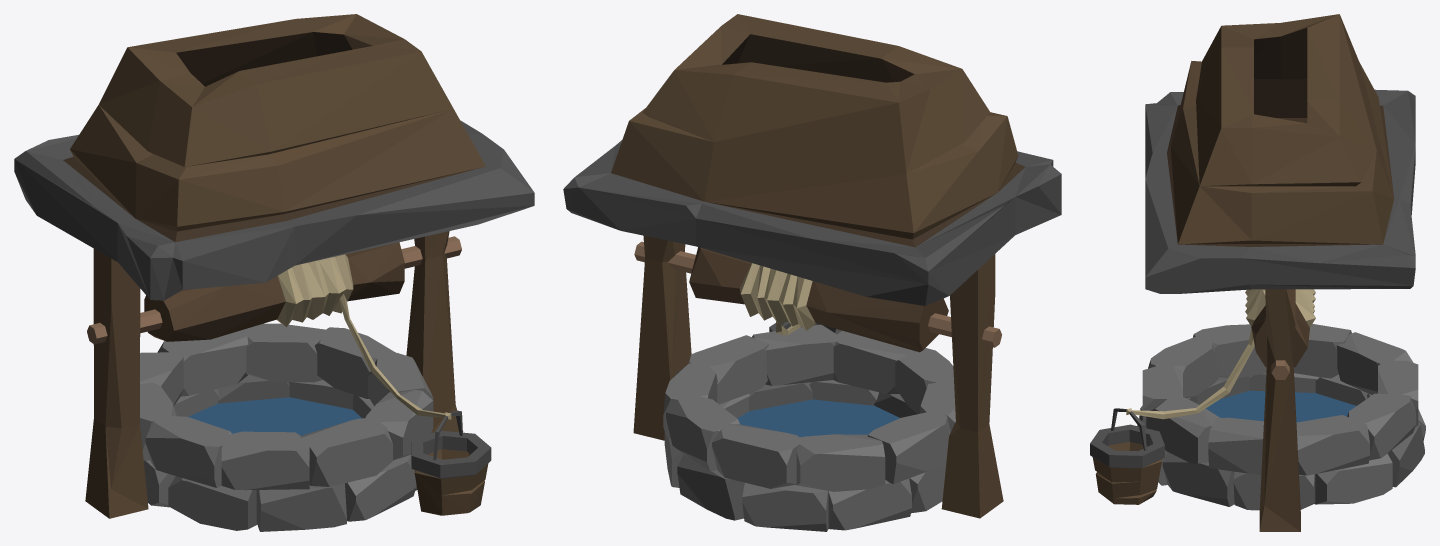
File: well_01.FBX
3 views of the same model, side by side, from view 1: azimuth 30°, elevation 25°; view 2: azimuth 150°, elevation 25°; view 3: azimuth 270°, elevation 25° (orthographic). The views are drawn at different scales.
Visible parts, largest first — view 1: Well_01; view 2: Well_01; view 3: Well_01.
Part boxes in pixels (x1,y1,x2,y2): Well_01: (14,14,534,531); Well_01: (563,14,1061,531); Well_01: (1090,14,1425,531).
Size of the model in its own units: 4.74 by 5.15 by 4.04.
